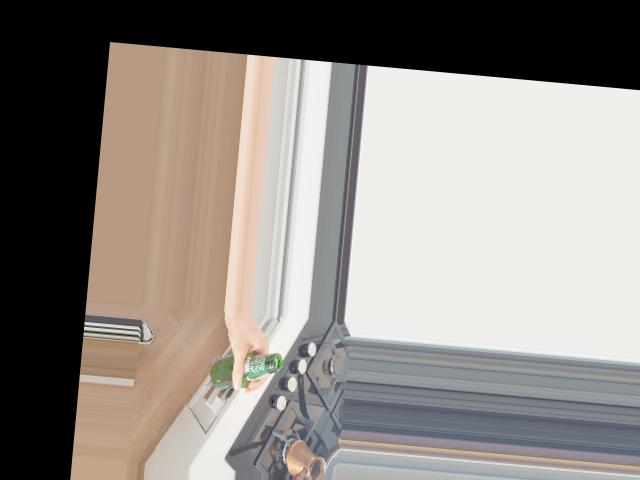beer: (208, 347, 283, 393)
